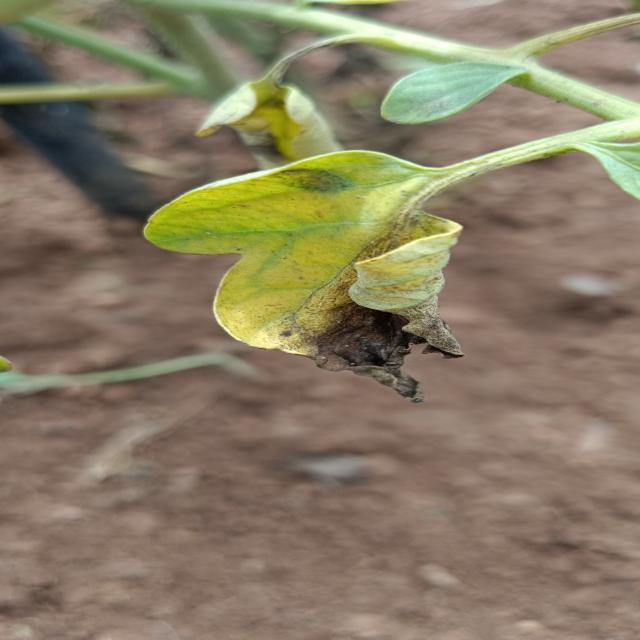tomato_early blight: (147, 149, 467, 387)
